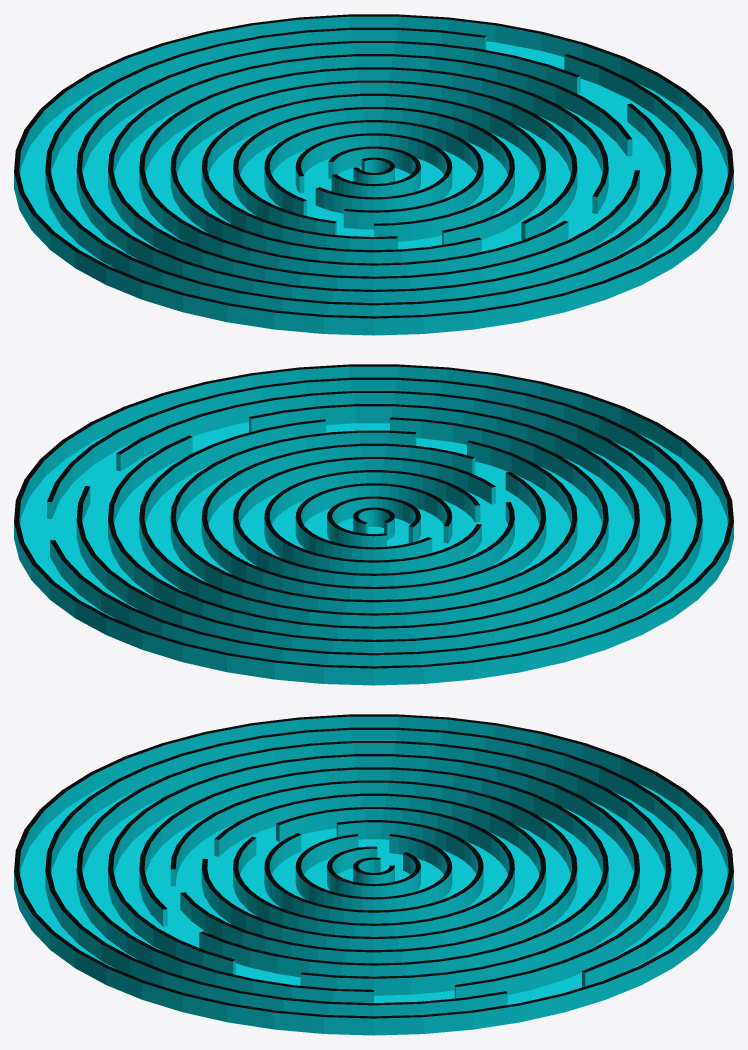
File: level10.fbx
3 views of the same model, one above another, from view 1: azimuth 30°, elevation 25°; view 2: azimuth 150°, elevation 25°; view 3: azimuth 270°, elevation 25° (orthographic).
Parts seen in each view (by area): view 1: Vert; view 2: Vert; view 3: Vert.
Part boxes in pixels (x1,y1,x2,y2): Vert: [14, 14, 733, 335]; Vert: [14, 364, 733, 685]; Vert: [14, 714, 733, 1035].
Size of the model in its own units: 500 by 13 by 501.
